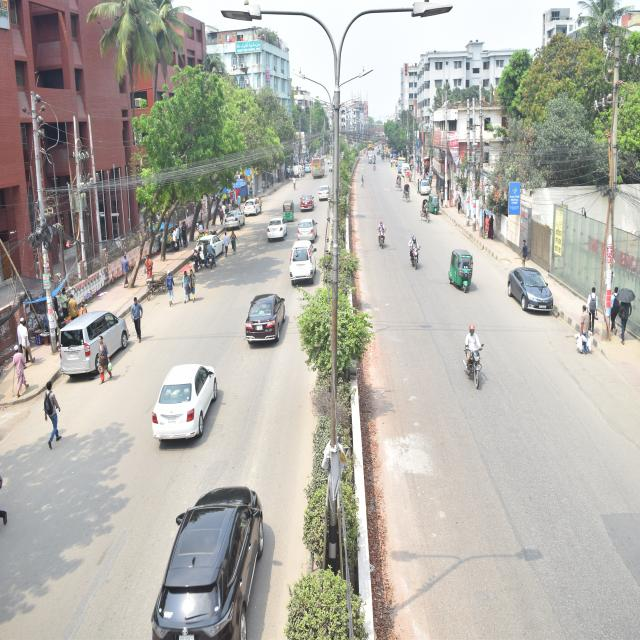bus: (306, 155, 332, 191)
car: (126, 478, 313, 640), (134, 338, 230, 460), (58, 294, 143, 382), (238, 268, 292, 365), (497, 239, 556, 326), (270, 218, 319, 278), (240, 176, 275, 246), (191, 218, 225, 284), (296, 212, 328, 265), (220, 198, 253, 244), (261, 213, 293, 254), (417, 170, 442, 220), (317, 179, 339, 219), (324, 152, 346, 182), (299, 191, 324, 215), (300, 161, 312, 181), (403, 161, 414, 182)
motorbike: (444, 318, 513, 434), (407, 227, 431, 297), (200, 227, 226, 274), (376, 214, 394, 264), (188, 246, 202, 280), (370, 160, 380, 176), (374, 152, 378, 167)
pickup-van: (396, 148, 410, 182), (293, 163, 311, 185)
